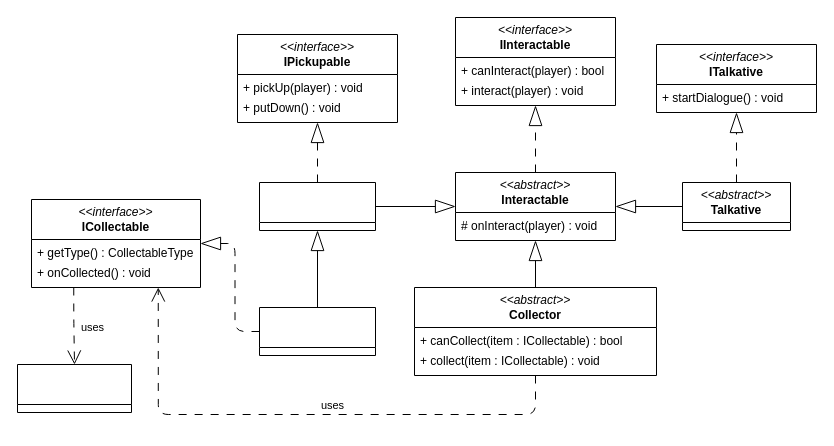
Some shapes in this 834 by 446 pixel diagram are drawn without their labels. Each missing label, with the centre of its shape:
<<abstract>> Collectable: (317,331)
<<abstract>> Pickupable: (317,206)
<<enum>> CollectableType: (74,388)
